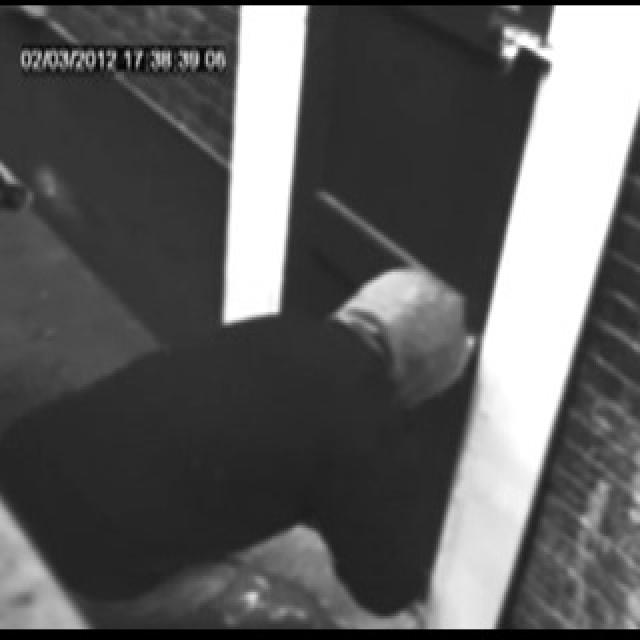thief: (321, 228, 478, 412)
